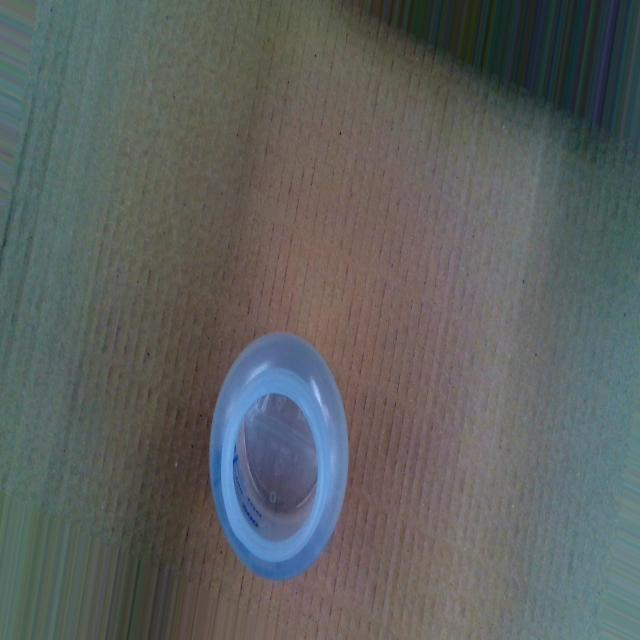bottle: (206, 322, 350, 589)
